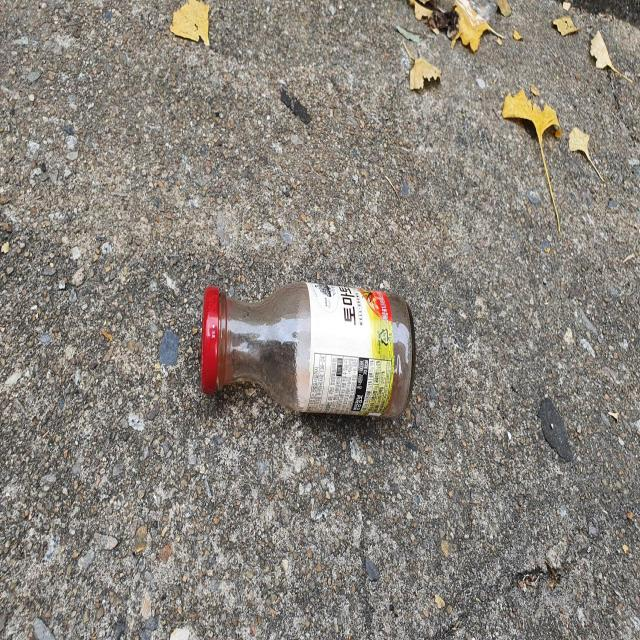glass: (200, 281, 416, 417)
